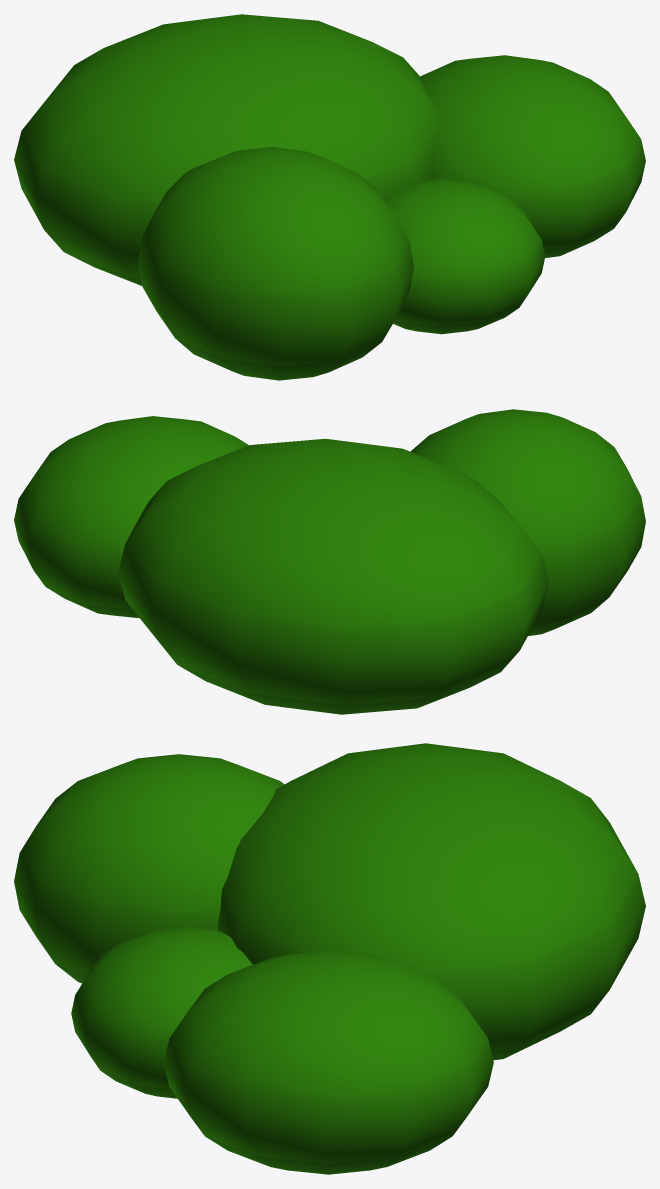
The model's file is bush-11_col.fbx.
3 renders of one model, top to bottom at view 1: azimuth 30°, elevation 25°; view 2: azimuth 150°, elevation 25°; view 3: azimuth 270°, elevation 25°, orthographic. The views are drawn at different scales.
Parts seen in each view (by area): view 1: bush-11.col; view 2: bush-11.col; view 3: bush-11.col.
Part boxes in pixels (x1=…): bush-11.col: x1=14, y1=14, x2=645, y2=380; bush-11.col: x1=14, y1=409, x2=645, y2=714; bush-11.col: x1=14, y1=743, x2=645, y2=1174.
Size of the model in its own units: 0.4055 by 0.1595 by 0.3676.
Materials: 1 (1 with a texture image).
